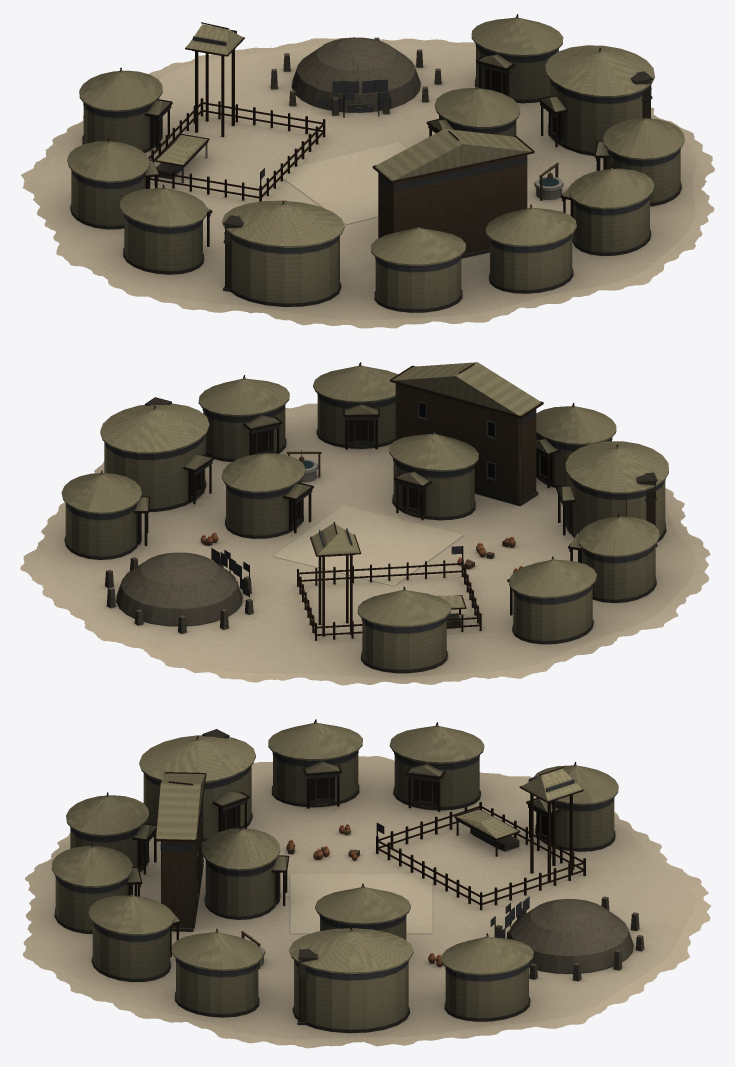
The model's file is bronze-town-medium-b-steppe-bed44e10.glb.
3 renders of one model, top to bottom at view 1: azimuth 30°, elevation 25°; view 2: azimuth 150°, elevation 25°; view 3: azimuth 270°, elevation 25°, orthographic.
Visible parts, largest first — view 1: LOD0; view 2: LOD0; view 3: LOD0.
Boxes of the visible parts, x1,y1,x2,y2 form: LOD0: (21,14,714,328); LOD0: (20,362,710,685); LOD0: (22,719,711,1048).
Size of what is drawn, in the model's own units: 5.96 by 1.12 by 5.97.
Materials: 3 (3 with a texture image).
